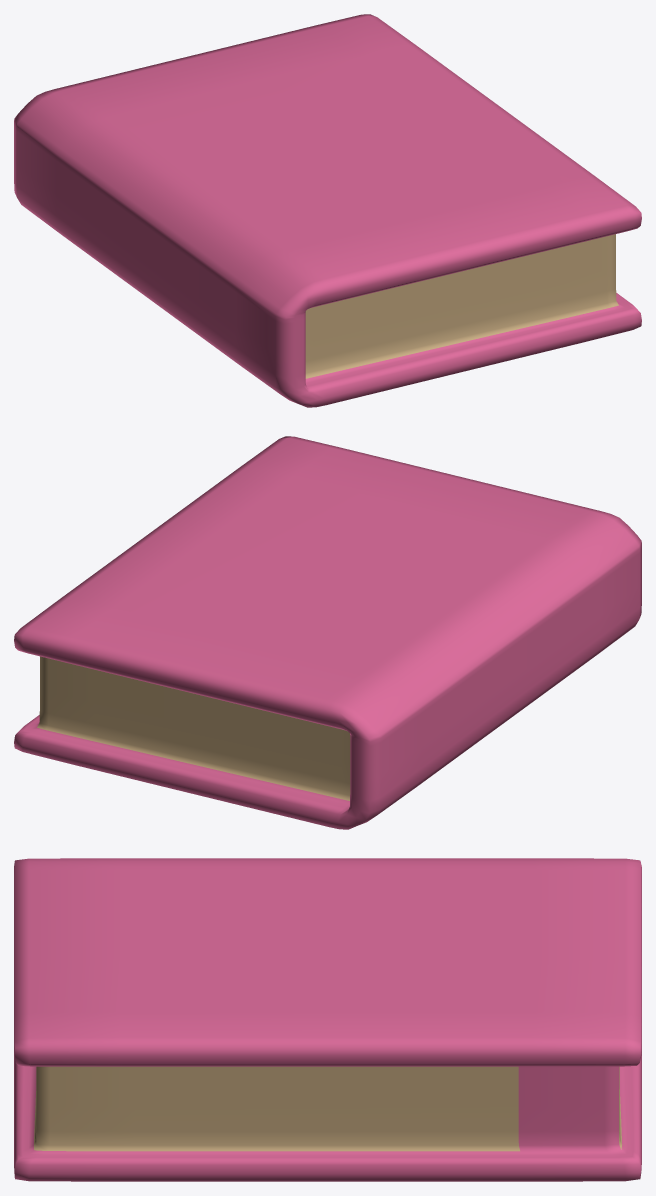
File: closed book.fbx
3 views of the same model, one above another, from view 1: azimuth 30°, elevation 25°; view 2: azimuth 150°, elevation 25°; view 3: azimuth 270°, elevation 25° (orthographic). The views are drawn at different scales.
Visible parts, largest first — view 1: Cube; view 2: Cube; view 3: Cube.
Part boxes in pixels (box(x1,y1,x2,y2)): Cube: box(14, 14, 641, 407); Cube: box(14, 436, 641, 829); Cube: box(14, 858, 641, 1181).
Bounding box in the file's own units: 273 × 89.78 × 355.
